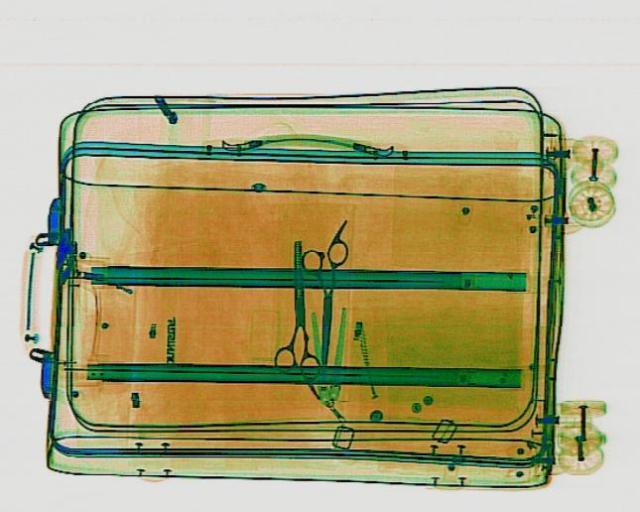Scissors: (270, 238, 322, 380), (298, 238, 348, 368)
